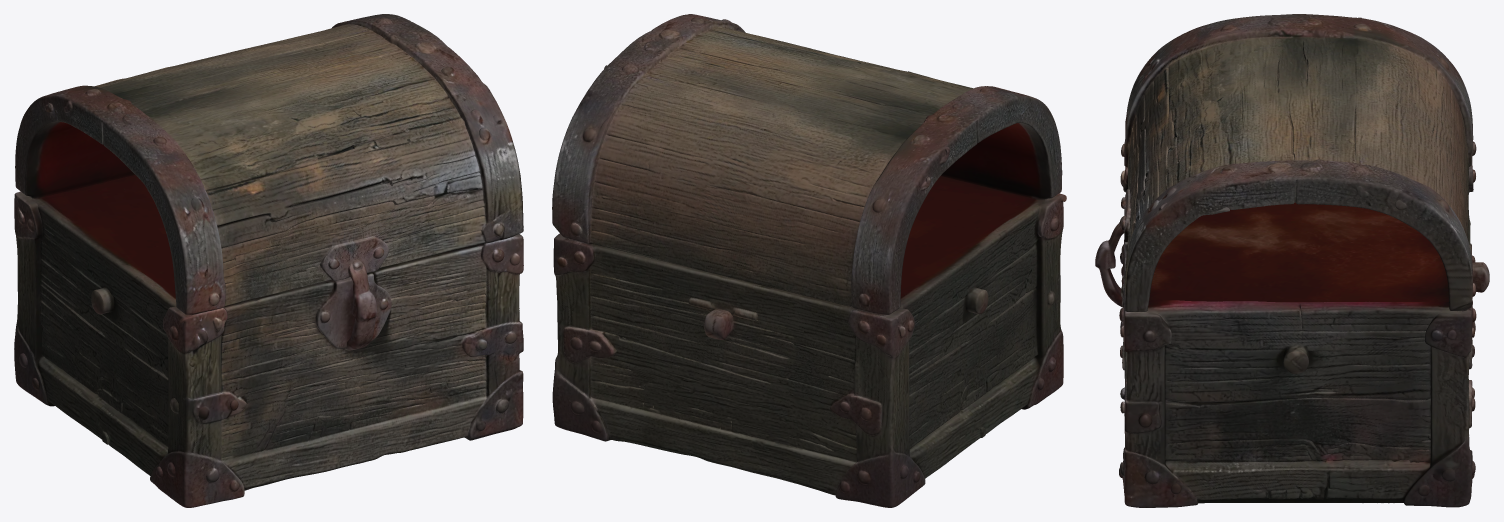
Rendered from TC002_Hyper Rodin 2.5.glb.
3 views of the same model, side by side, from view 1: azimuth 30°, elevation 25°; view 2: azimuth 150°, elevation 25°; view 3: azimuth 270°, elevation 25° (orthographic).
Parts seen in each view (by area): view 1: model; view 2: model; view 3: model.
Boxes of the visible parts, left/top/right/bottom form: model: left=14, top=14, right=523, bottom=507; model: left=552, top=14, right=1066, bottom=507; model: left=1095, top=14, right=1489, bottom=507.
Size of the model in its own units: 1.9 by 1.72 by 1.85.
1 material, 1 textured.
